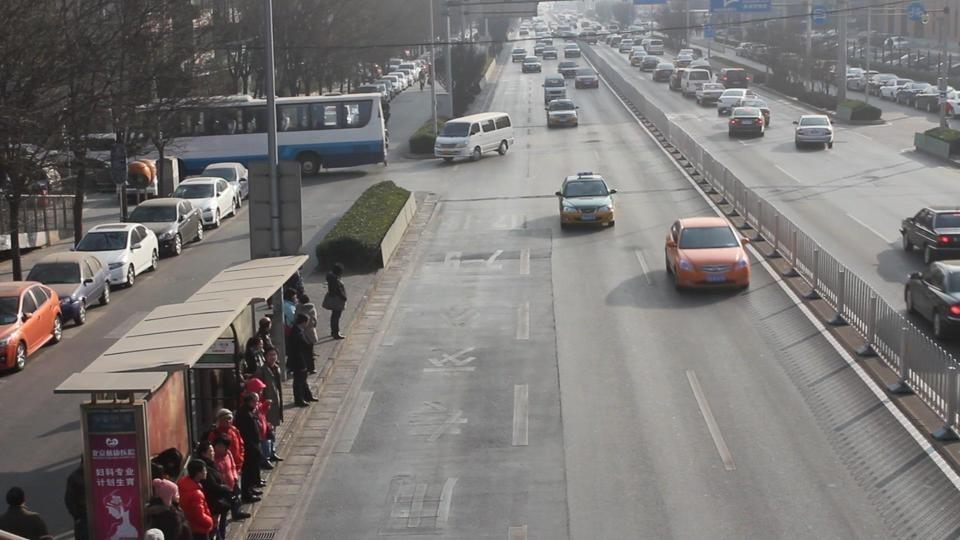car: (664, 215, 753, 292), (24, 254, 112, 323), (0, 280, 63, 376), (72, 222, 160, 288), (903, 259, 960, 342), (125, 197, 203, 257), (434, 111, 514, 163), (556, 173, 619, 229), (172, 176, 238, 228), (900, 207, 960, 262), (201, 162, 251, 207), (794, 114, 835, 150), (727, 106, 766, 140), (543, 79, 573, 123), (546, 98, 579, 128), (716, 89, 749, 118), (543, 73, 567, 105), (574, 69, 599, 89), (522, 56, 541, 73)
